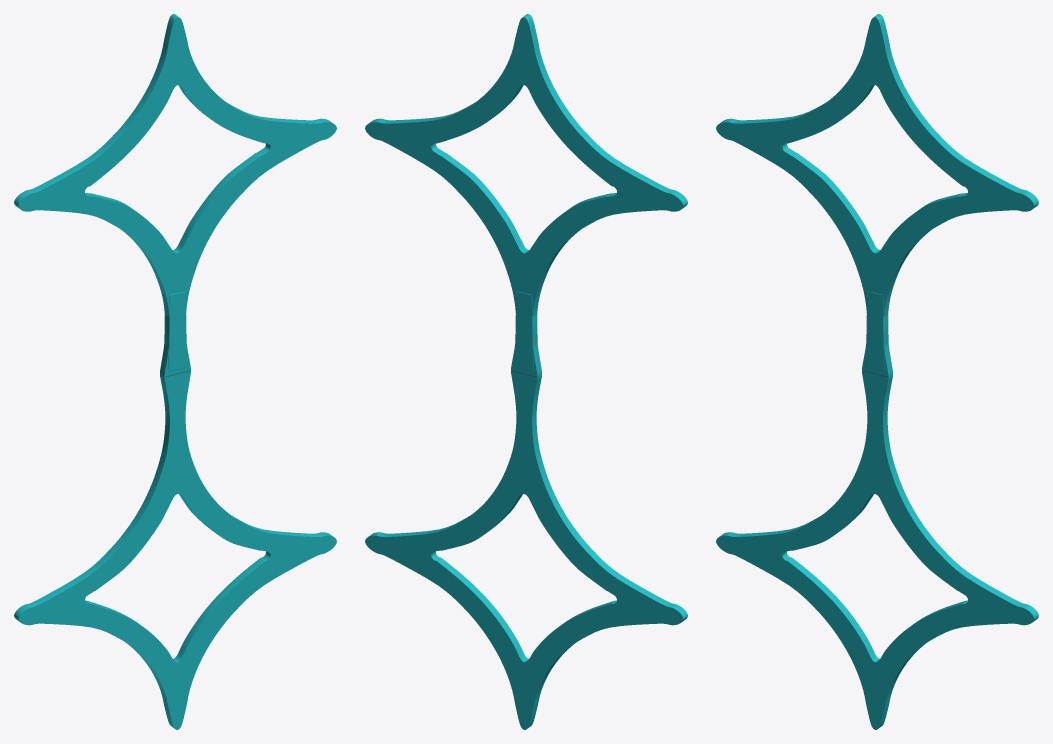
Rendered from doublestar.glb.
3 views of the same model, side by side, from view 1: azimuth 30°, elevation 25°; view 2: azimuth 150°, elevation 25°; view 3: azimuth 330°, elevation 25° (orthographic).
Visible parts, largest first — view 1: TKA_Doublestar_ReferenceBody_Recolor, TKA_Doublestar_GripTongue_Top_Recolor; view 2: TKA_Doublestar_ReferenceBody_Recolor, TKA_Doublestar_GripTongue_Top_Recolor; view 3: TKA_Doublestar_ReferenceBody_Recolor, TKA_Doublestar_GripTongue_Top_Recolor.
Part boxes in pixels (bbox=[...]): TKA_Doublestar_ReferenceBody_Recolor: bbox=[14, 14, 336, 729]; TKA_Doublestar_GripTongue_Top_Recolor: bbox=[164, 291, 186, 371]; TKA_Doublestar_ReferenceBody_Recolor: bbox=[365, 14, 687, 729]; TKA_Doublestar_GripTongue_Top_Recolor: bbox=[515, 291, 537, 371]; TKA_Doublestar_ReferenceBody_Recolor: bbox=[716, 14, 1038, 729]; TKA_Doublestar_GripTongue_Top_Recolor: bbox=[866, 291, 888, 371].
Size of the model in its own units: 0.4791 by 1.02 by 0.0127.
